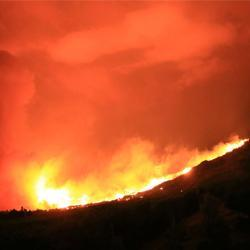fire: (36, 177, 76, 207), (116, 187, 136, 197), (145, 177, 164, 187)
